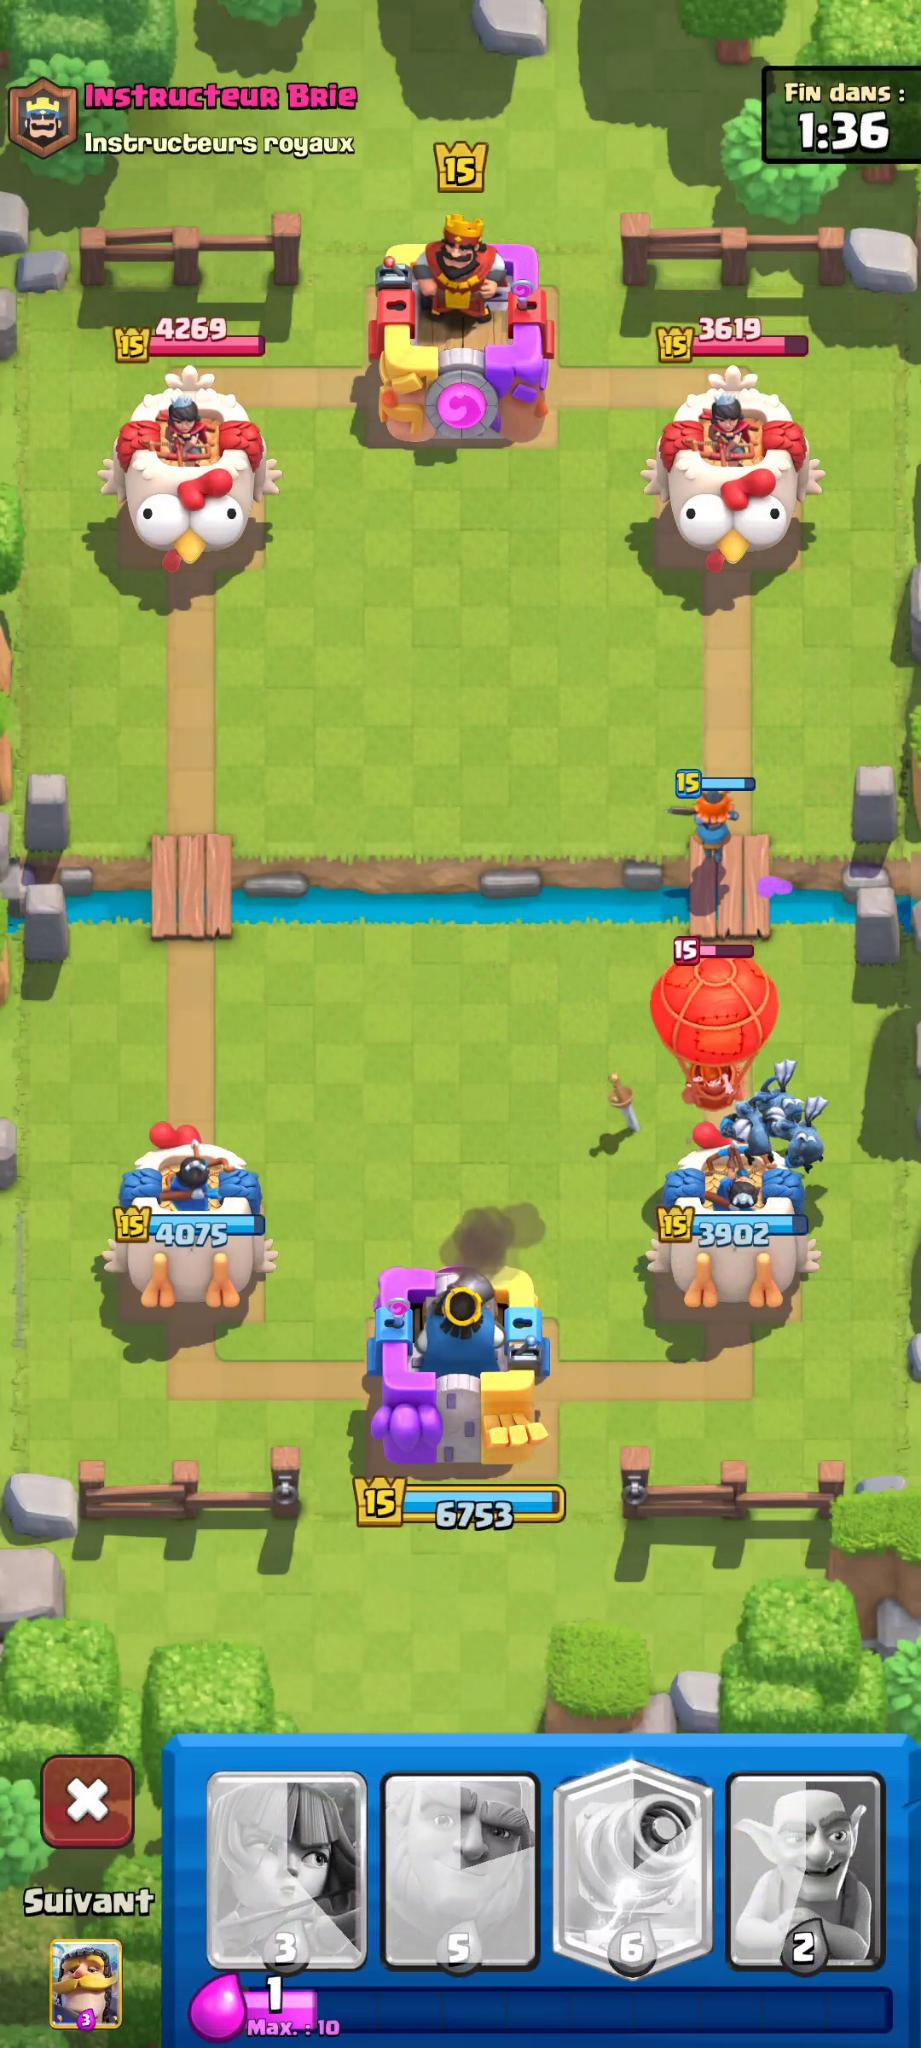gargouille: (713, 1108, 779, 1172), (747, 1074, 811, 1131), (780, 1110, 840, 1169)
valkyrie: (635, 767, 769, 884)
